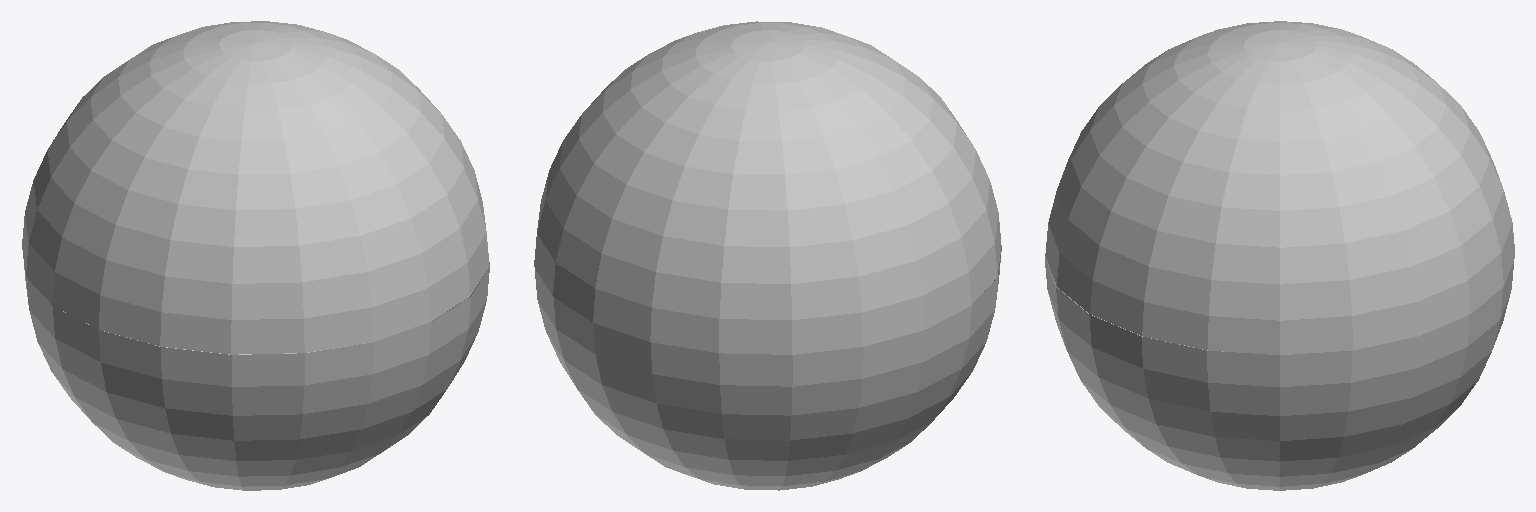
The model's file is pokeball.obj.
3 renders of one model, left to right at view 1: azimuth 30°, elevation 25°; view 2: azimuth 150°, elevation 25°; view 3: azimuth 270°, elevation 25°, orthographic.
Parts seen in each view (by area): view 1: polySurface2 pSphere1, pSphere1 polySurface1; view 2: polySurface2 pSphere1, pSphere1 polySurface1; view 3: polySurface2 pSphere1, pSphere1 polySurface1.
Part boxes in pixels (left/top/right/bottom): polySurface2 pSphere1: left=22, top=21, right=489, bottom=354; pSphere1 polySurface1: left=23, top=258, right=489, bottom=490; polySurface2 pSphere1: left=534, top=21, right=1001, bottom=354; pSphere1 polySurface1: left=535, top=247, right=1001, bottom=490; polySurface2 pSphere1: left=1045, top=21, right=1514, bottom=354; pSphere1 polySurface1: left=1045, top=253, right=1513, bottom=490.
Bounding box in the file's own units: 2 × 2 × 2.